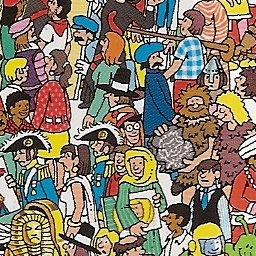waldo: (111, 109, 144, 147)
